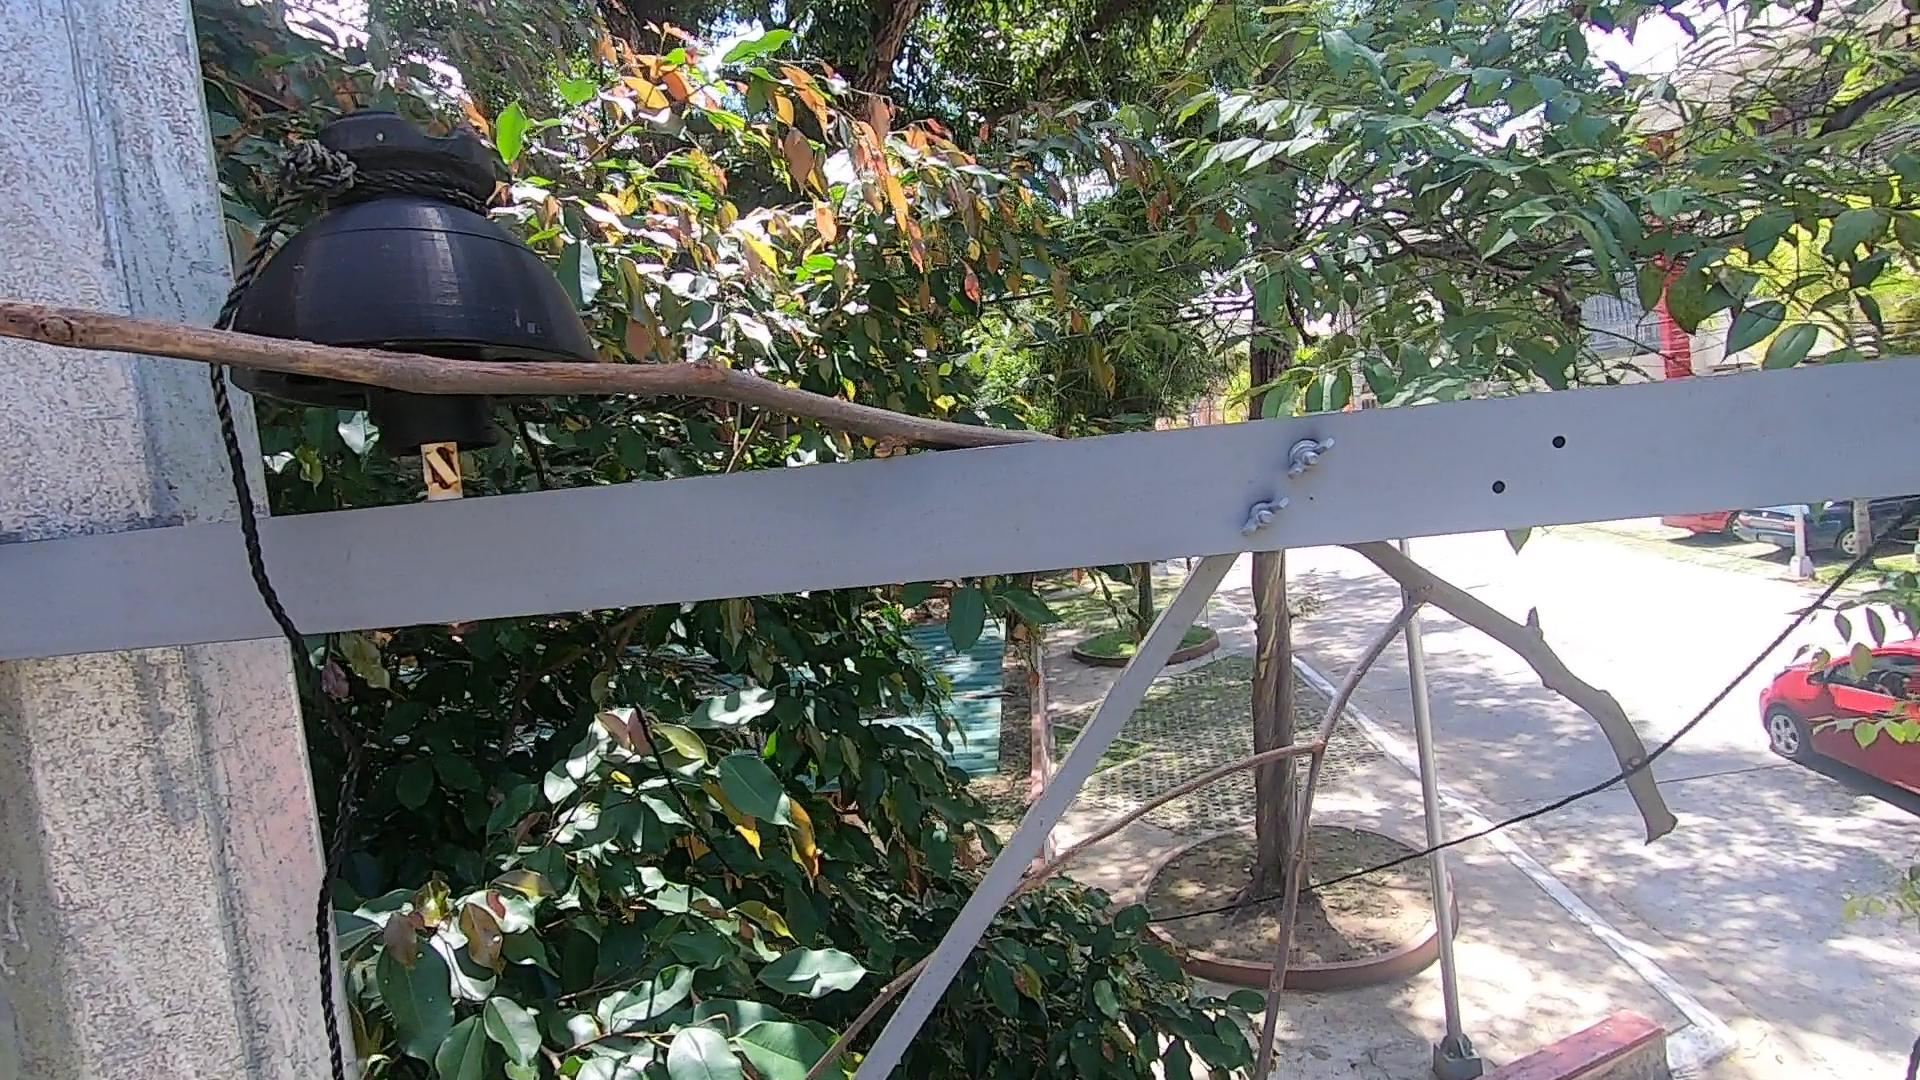tree branch: (789, 535, 1692, 1073), (1, 282, 1054, 450)
